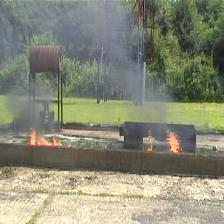fire: (28, 128, 63, 146), (167, 130, 180, 152)
